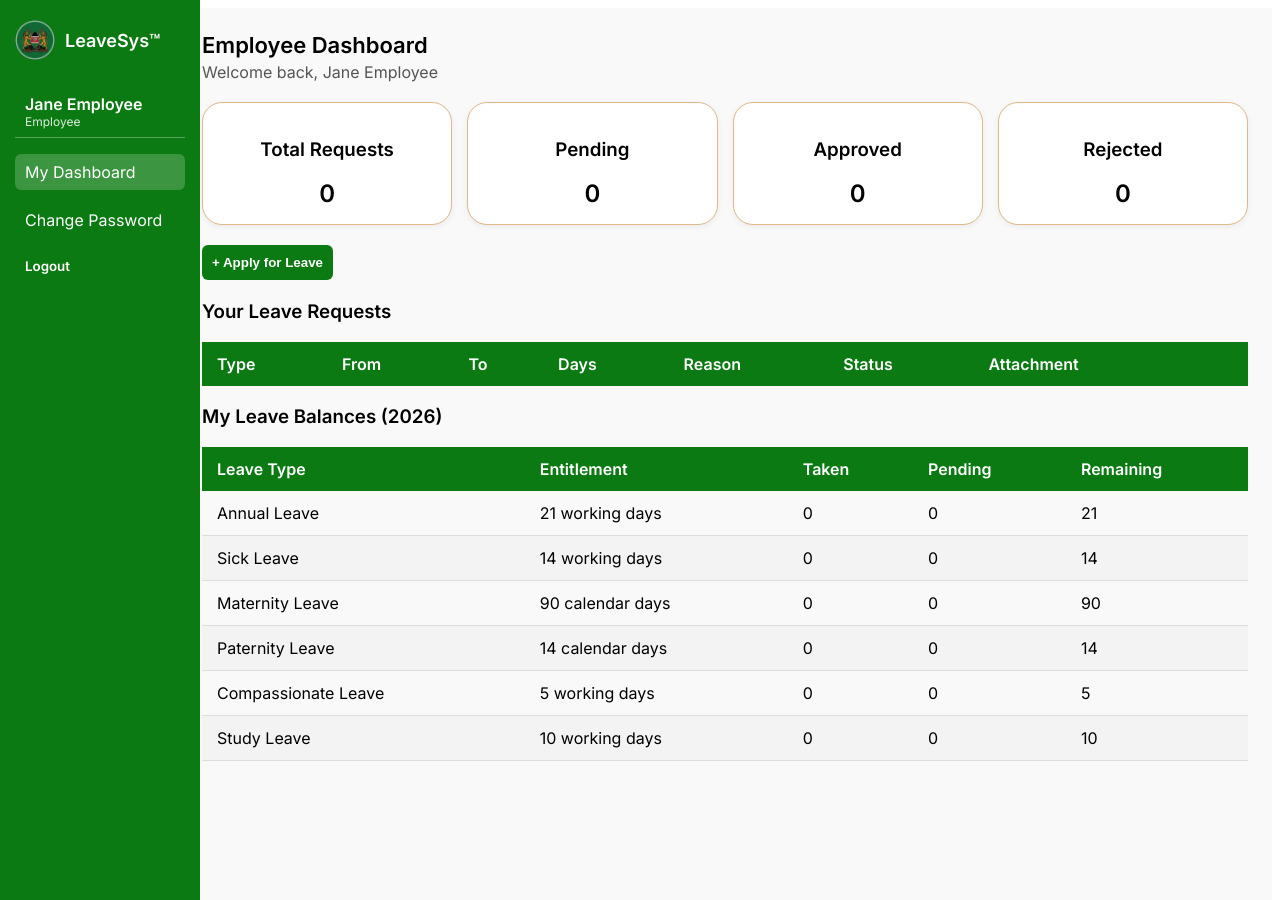
Test: applying for leave sends the request to the server
Click the button "+ Apply for Leave": x=268, y=263 [202,245,333,280]
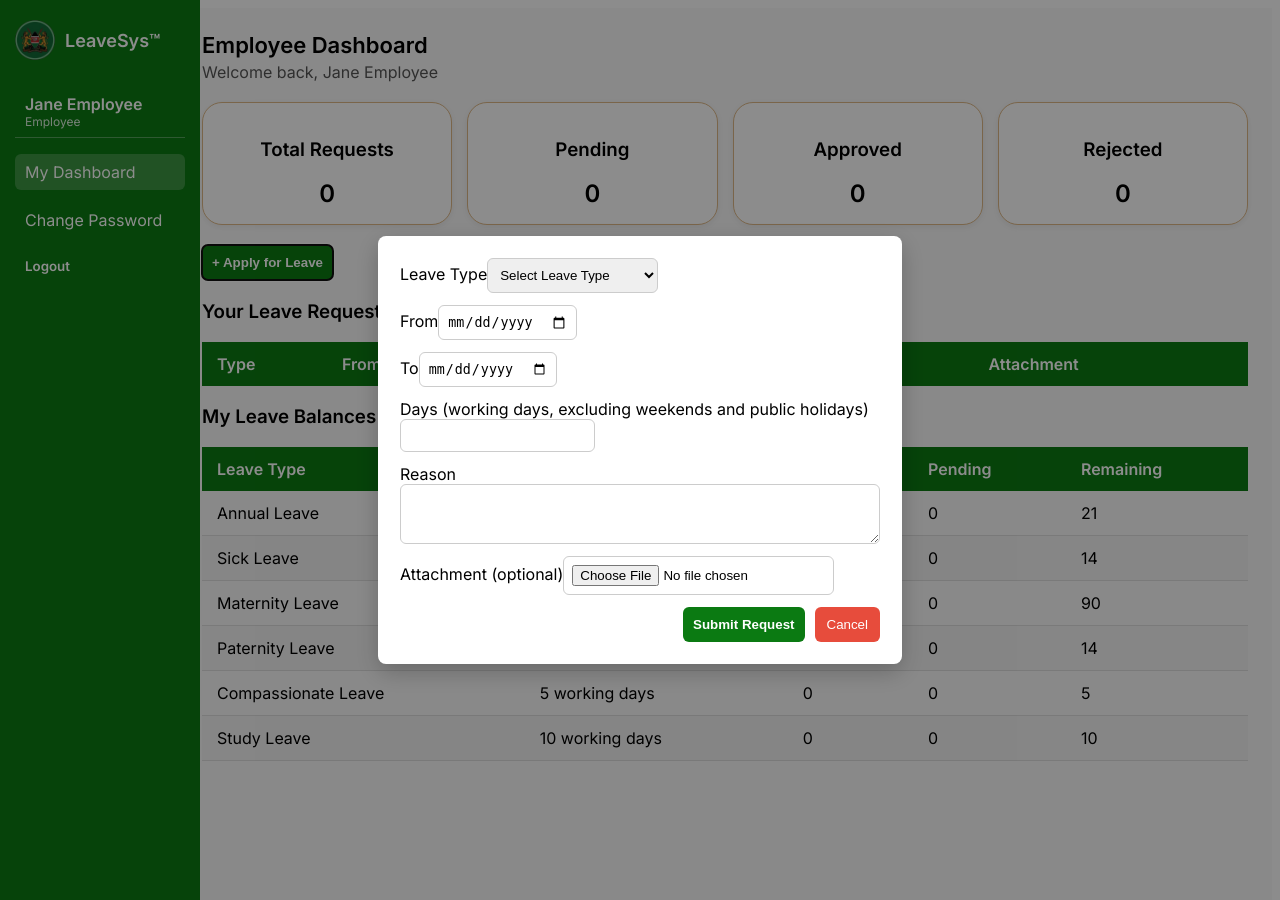
Select "Annual Leave" in the dropdown labelled "Leave Type": x=573, y=275 [487,258,658,293]
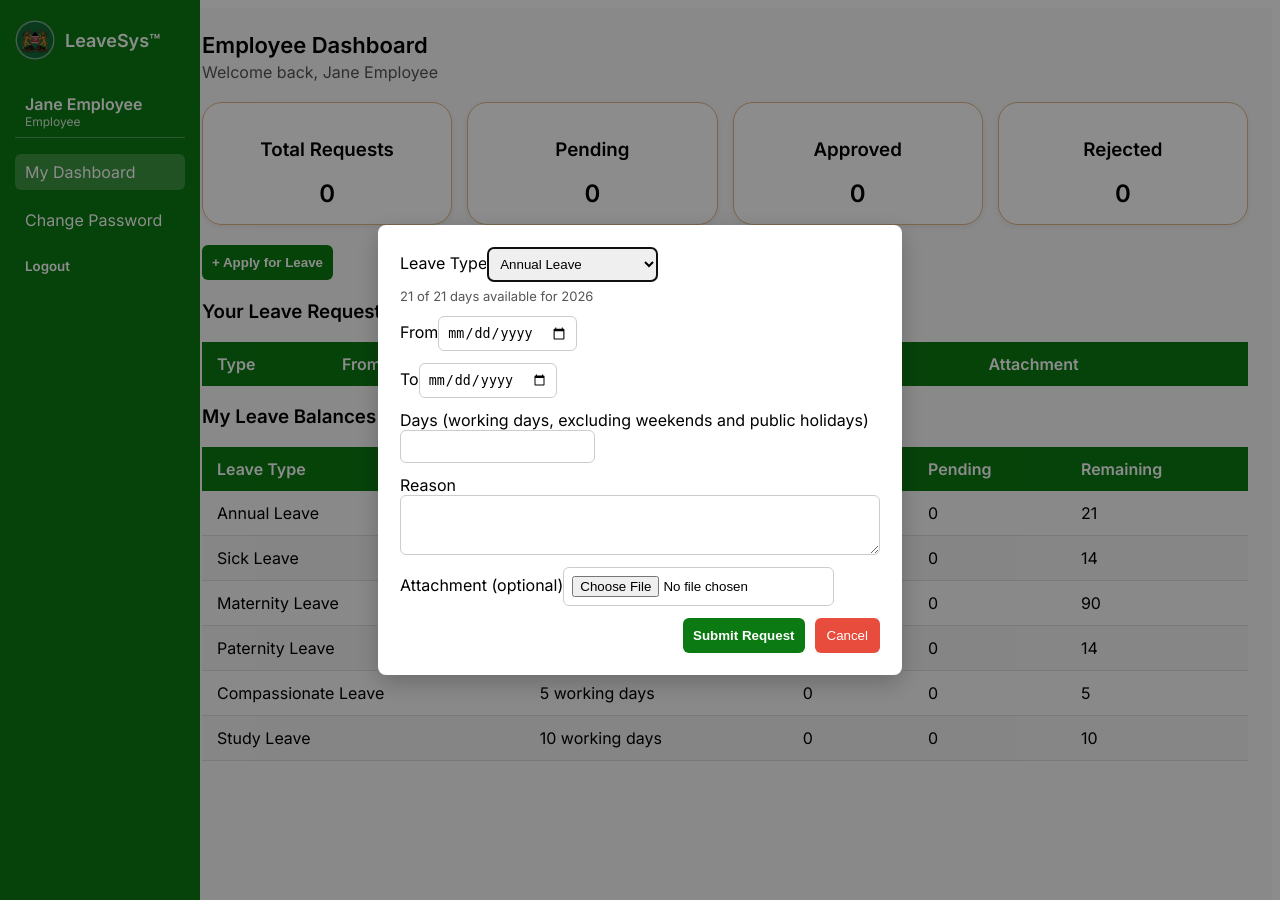
In the date field labelled "From": x=507, y=333 [438,316,577,351], type "2099-03-02"
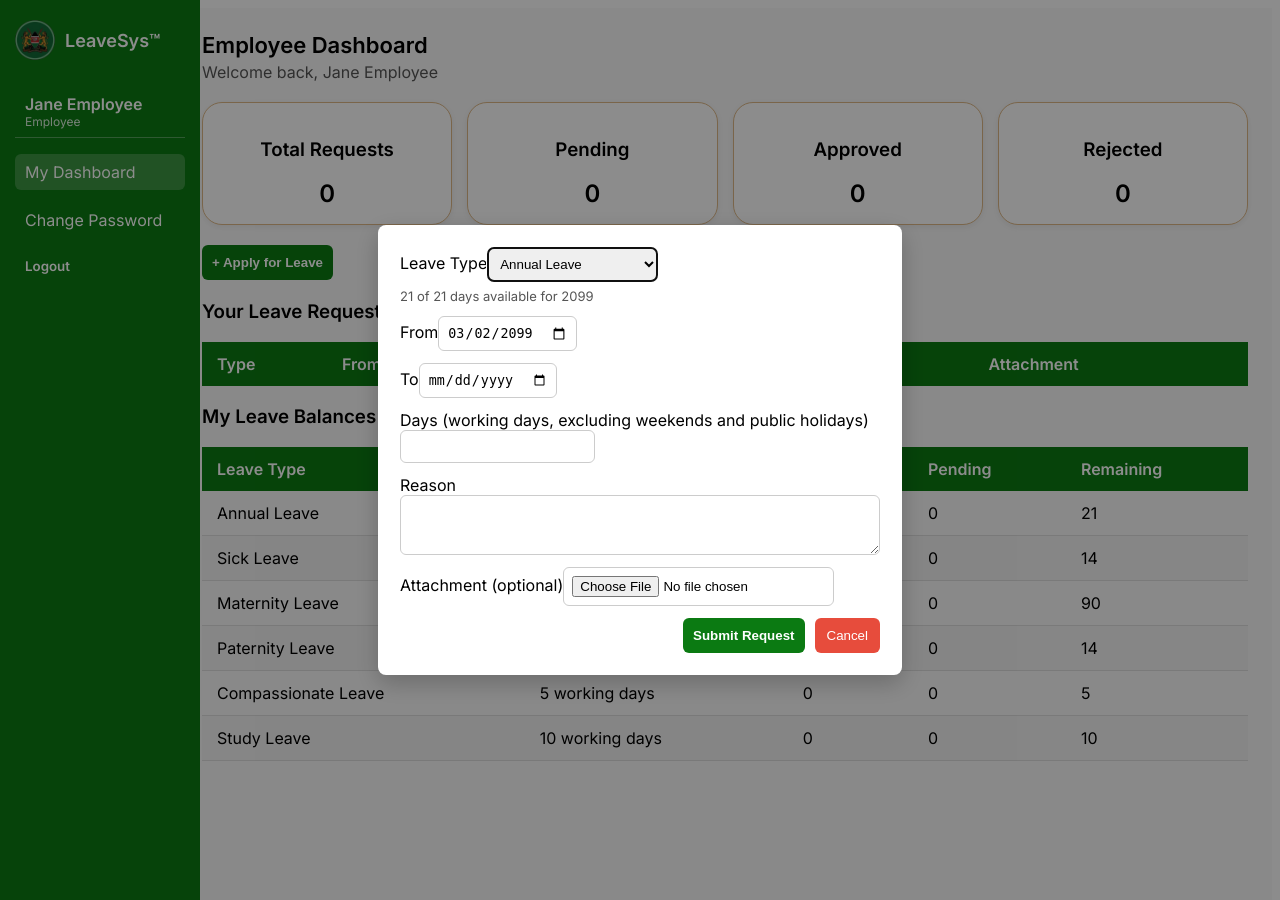
In the date field labelled "To": x=488, y=381 [419,363,557,398], type "2099-03-03"
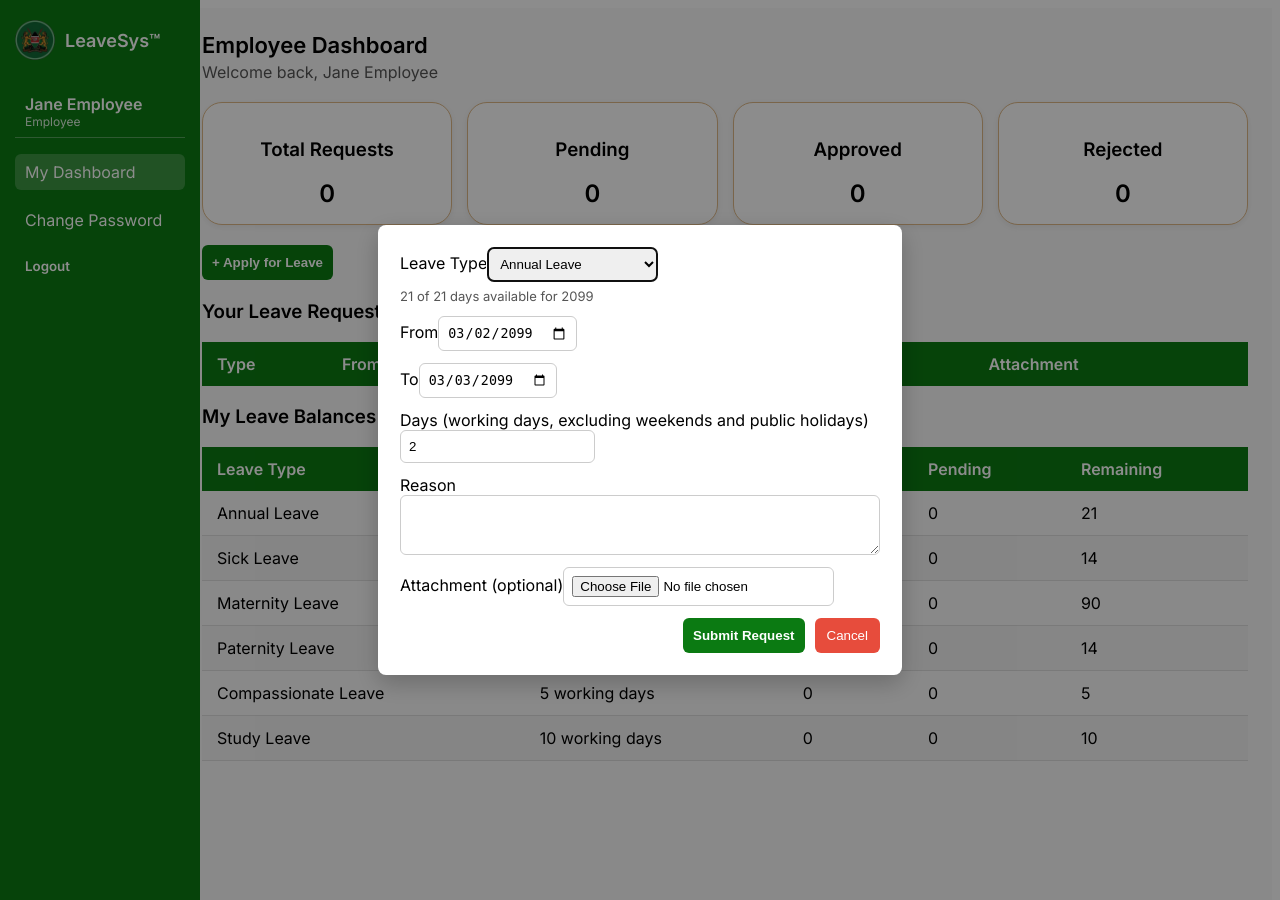
In the text box labelled "Reason": x=640, y=525 [400,495,880,555], type "Family visit"
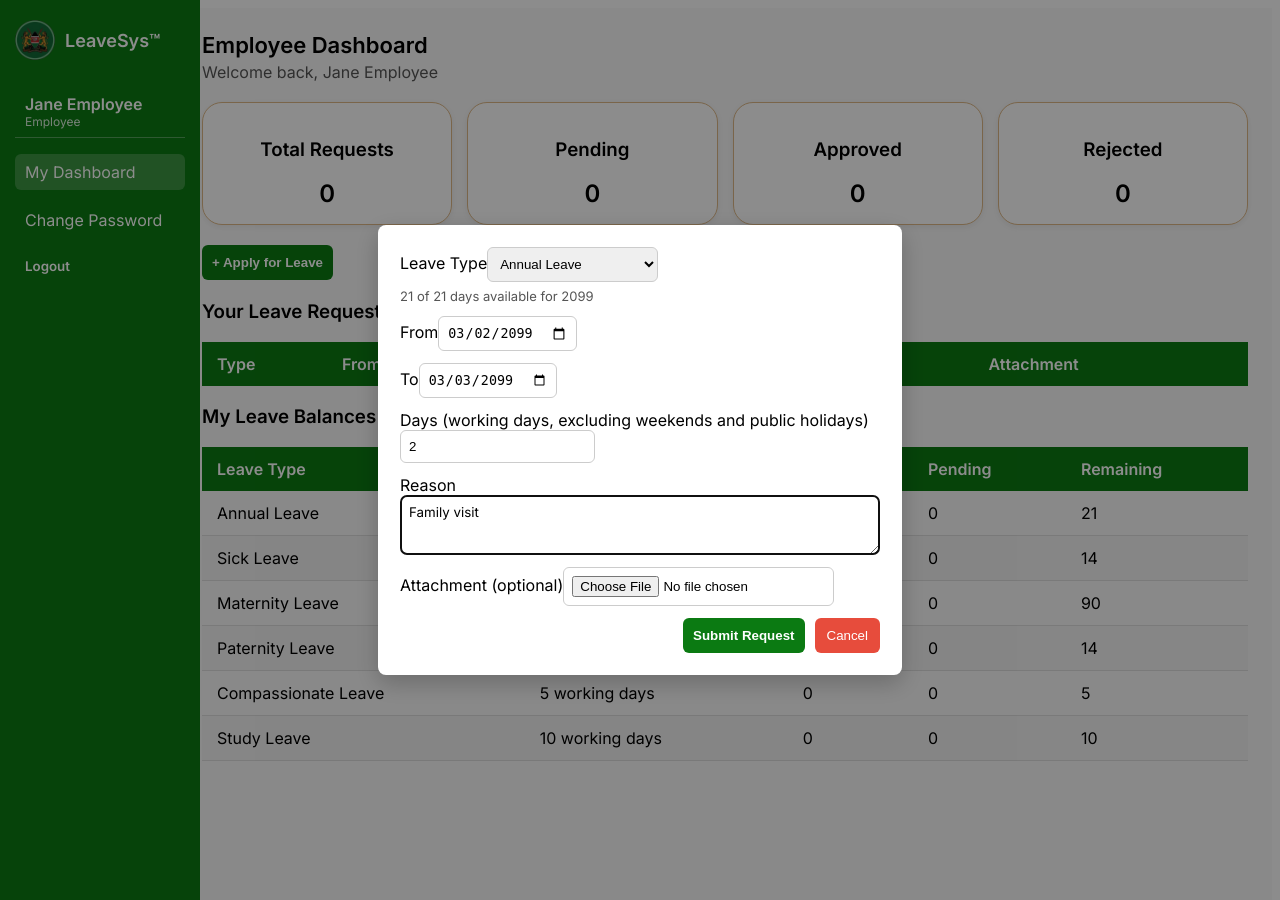
Click the button "Submit Request": x=744, y=636 [683,618,804,653]
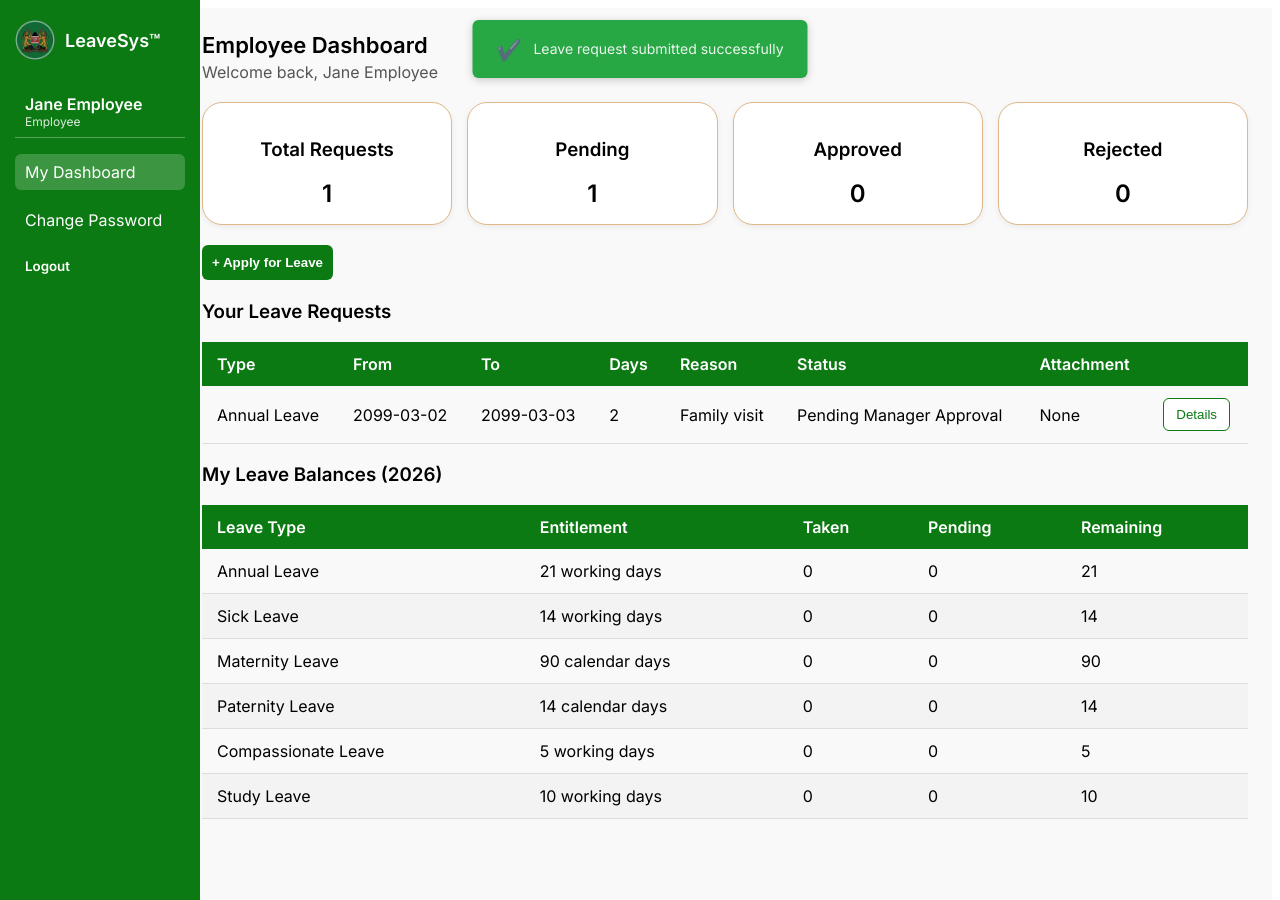
Check: the text "Leave request submitted successfully" is shown, box [533,40,784,57]
Check: the text "Family visit" is shown, box [665,386,782,444]
